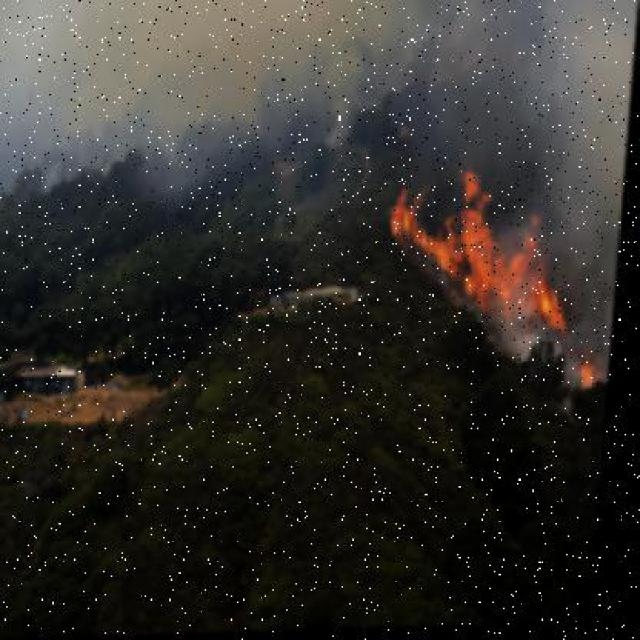fire: (380, 167, 628, 404)
